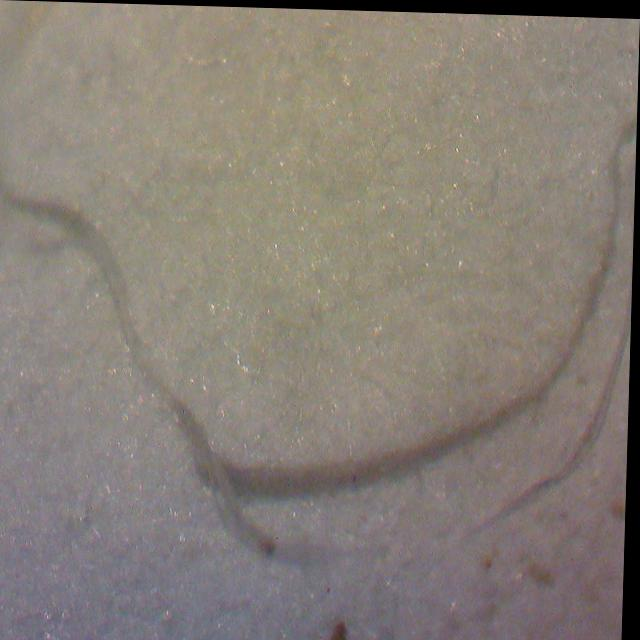microplastic: (0, 192, 640, 622)
